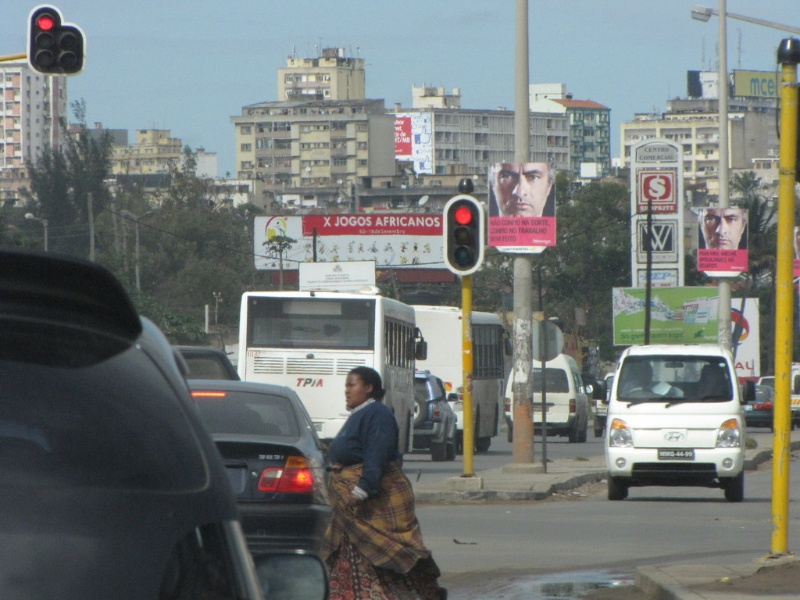red_light: (34, 1, 74, 74), (444, 193, 479, 268)
